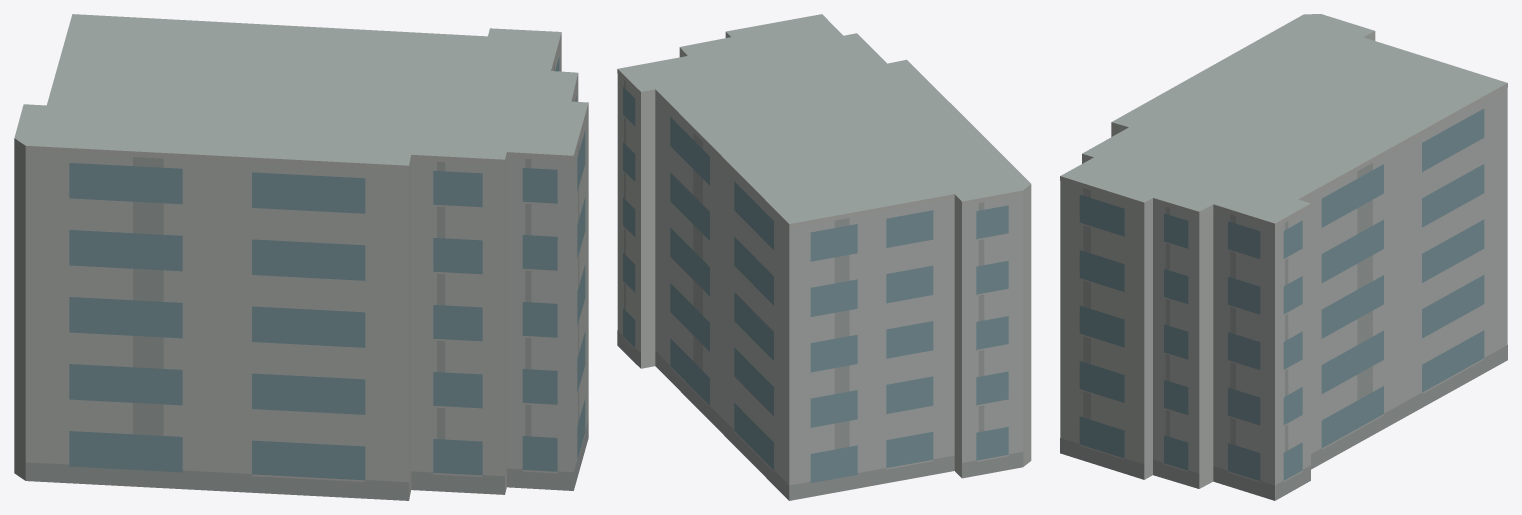
Rendered from survey-upis-32987420.glb.
3 renders of one model, left to right at view 1: azimuth 30°, elevation 25°; view 2: azimuth 150°, elevation 25°; view 3: azimuth 270°, elevation 25°, orthographic. The views are drawn at different scales.
Visible parts, largest first — view 1: survey-upis-32987420.tmp; view 2: survey-upis-32987420.tmp; view 3: survey-upis-32987420.tmp.
Part boxes in pixels (box(x1,y1,x2,y2)): survey-upis-32987420.tmp: box(14, 14, 588, 500); survey-upis-32987420.tmp: box(617, 14, 1031, 500); survey-upis-32987420.tmp: box(1060, 14, 1507, 500).
Size of the model in its own units: 23.19 by 14.3 by 20.93.
